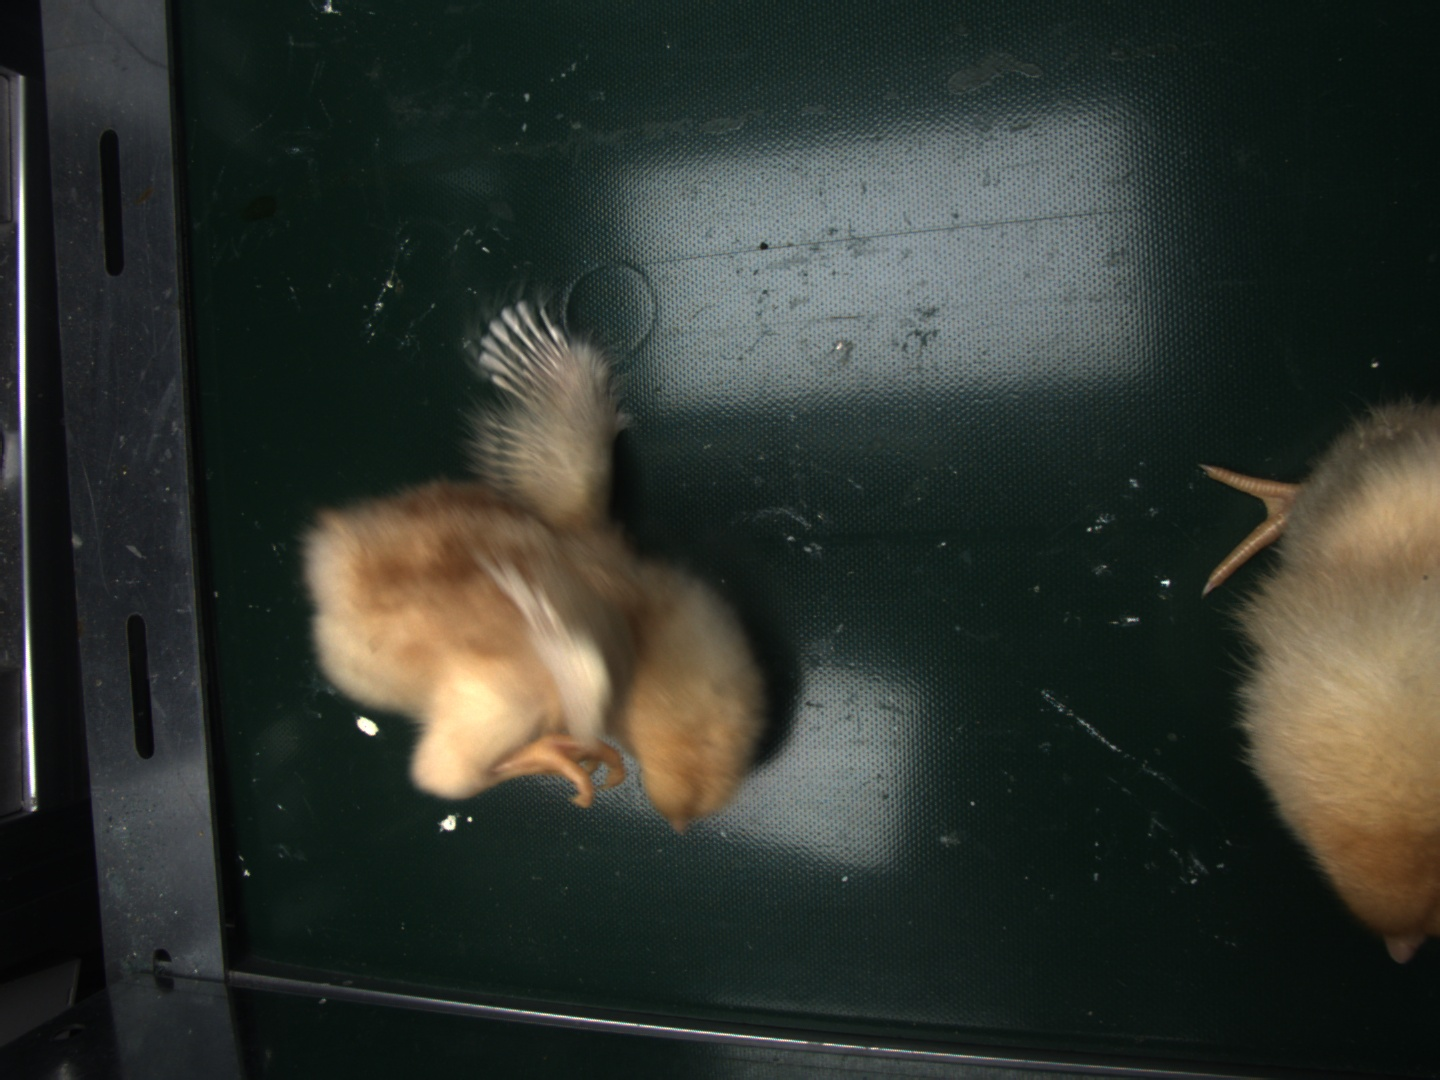female: (480, 303, 567, 403)
